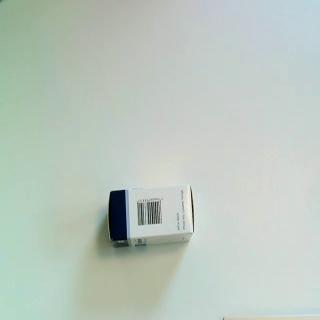xanor2mg: (107, 182, 198, 252)
